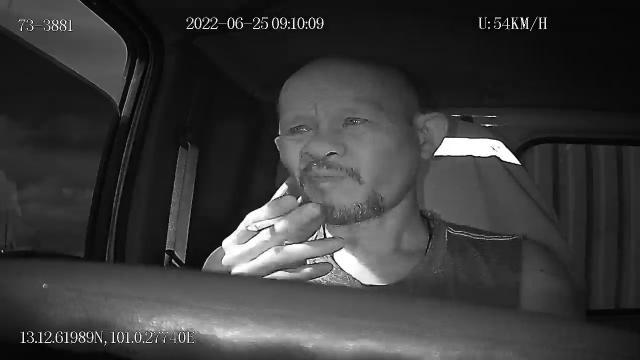SafeDriving: (336, 106, 378, 134), (280, 114, 322, 142)
Smoking: (247, 214, 285, 232)
